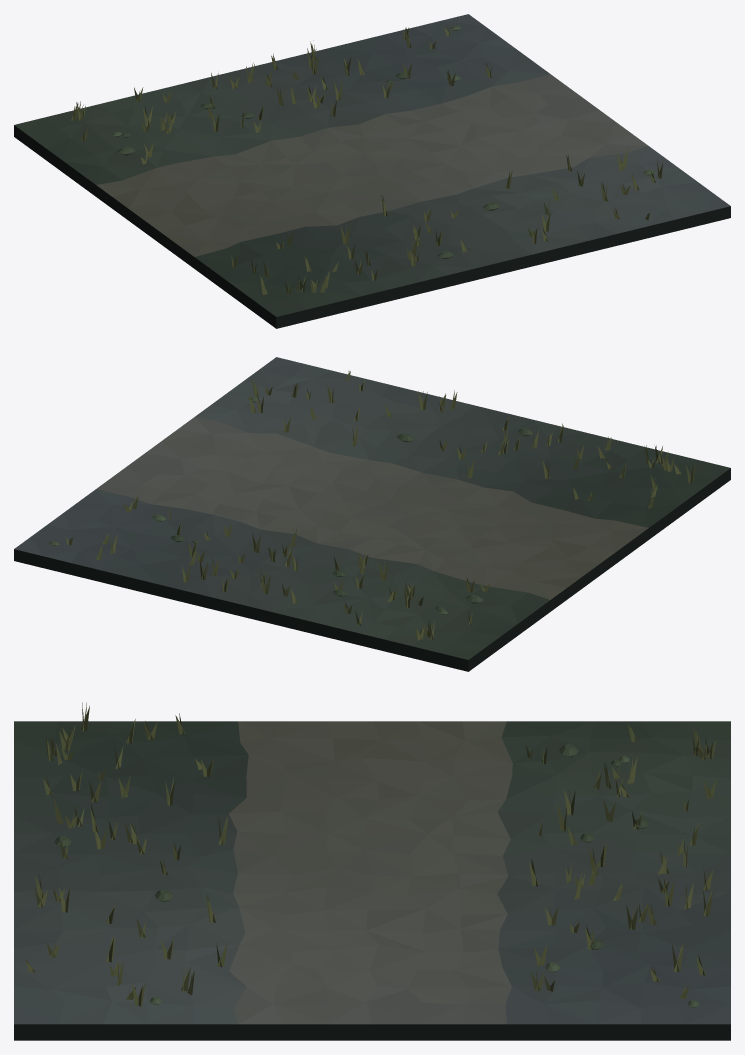
Rendered from CHUNK_TRANS_dark_canopy_forest__broken_crown_hills__0.glb.
The picture shows the model from 3 angles, top to bottom: view 1: azimuth 30°, elevation 25°; view 2: azimuth 150°, elevation 25°; view 3: azimuth 270°, elevation 25°; orthographic projection. The views are drawn at different scales.
Parts seen in each view (by area): view 1: CHUNK_TRANS_dark_canopy_forest__broken_crown_hills__0; view 2: CHUNK_TRANS_dark_canopy_forest__broken_crown_hills__0; view 3: CHUNK_TRANS_dark_canopy_forest__broken_crown_hills__0.
Boxes of the visible parts, x1,y1,x2,y2 form: CHUNK_TRANS_dark_canopy_forest__broken_crown_hills__0: [14, 14, 730, 328]; CHUNK_TRANS_dark_canopy_forest__broken_crown_hills__0: [14, 357, 730, 671]; CHUNK_TRANS_dark_canopy_forest__broken_crown_hills__0: [14, 702, 730, 1040].
Size of the model in its own units: 8 by 0.567 by 8.
